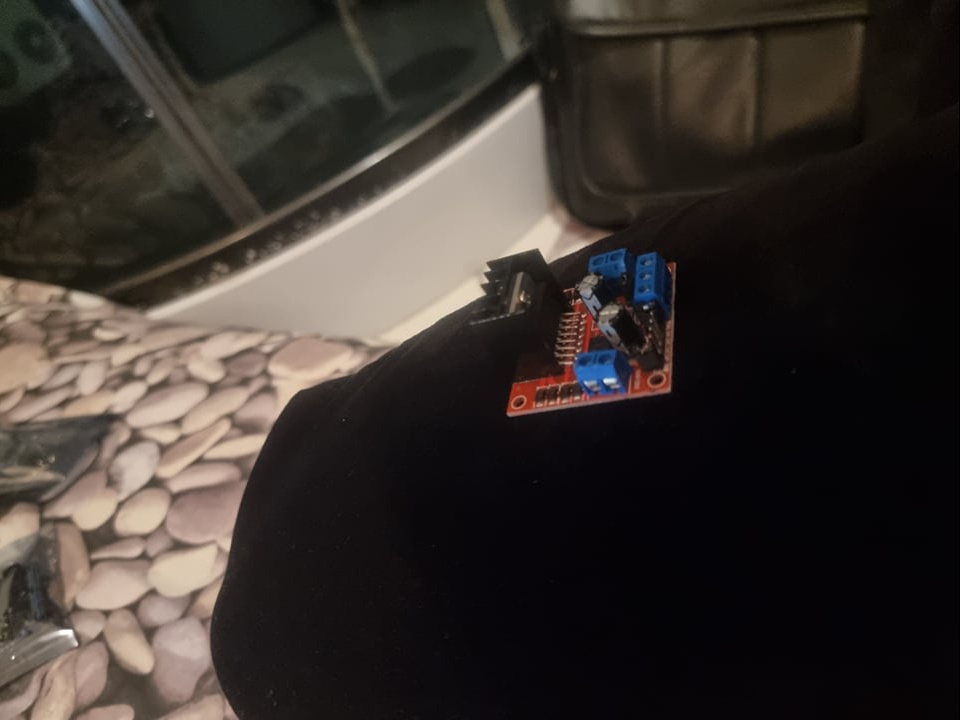MOTOR: (470, 243, 679, 419)
